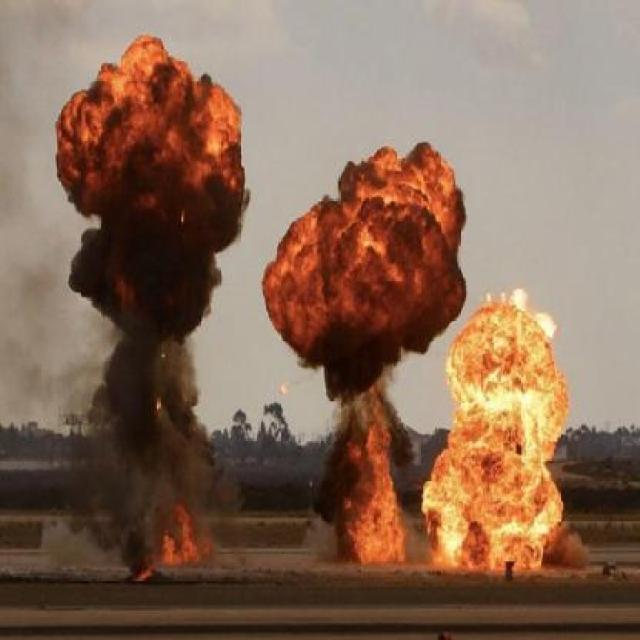Fire: (46, 57, 242, 588), (262, 118, 474, 572), (427, 294, 587, 578)
